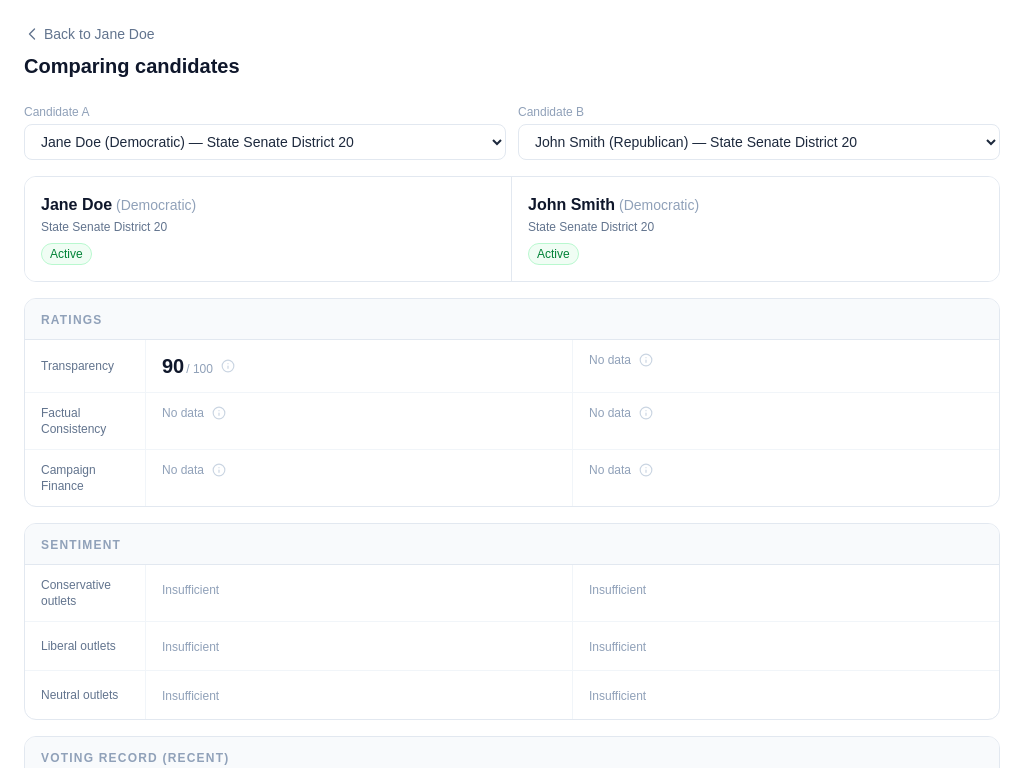
Test: ComparisonView › opens a rating popup for the correct side with the matching title and candidate name, and closes it
The width and height of the screenshot is (1024, 768).
Click the button named "Open Transparency explanation for Jane Doe": coordinates (228, 366) [221, 359, 235, 373]
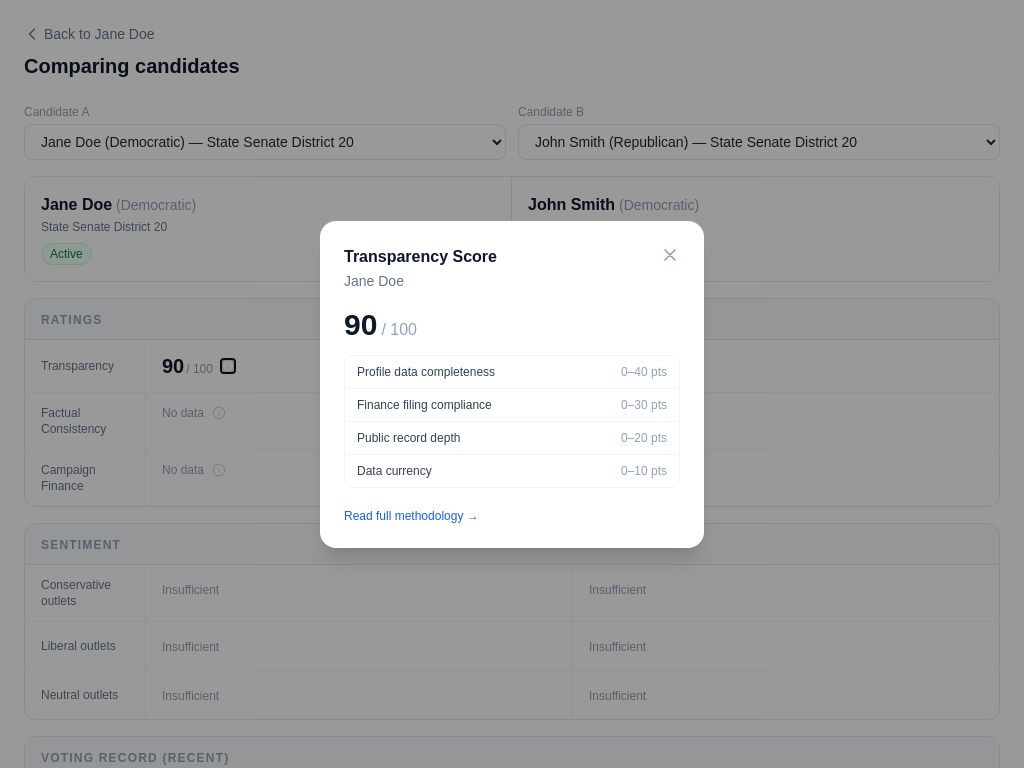
Result: the heading "Transparency Score" is shown at [344, 244, 497, 268]
Click the button named "Close": coordinates (670, 254) [660, 244, 680, 264]
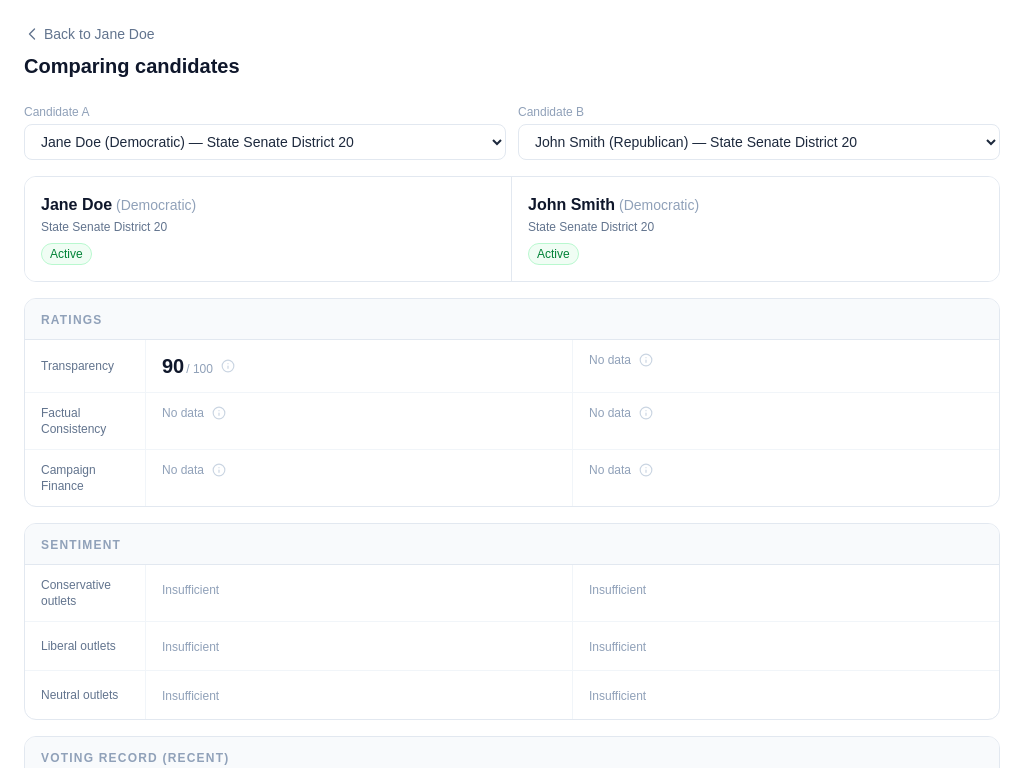
Result: the heading "Transparency Score" is gone
